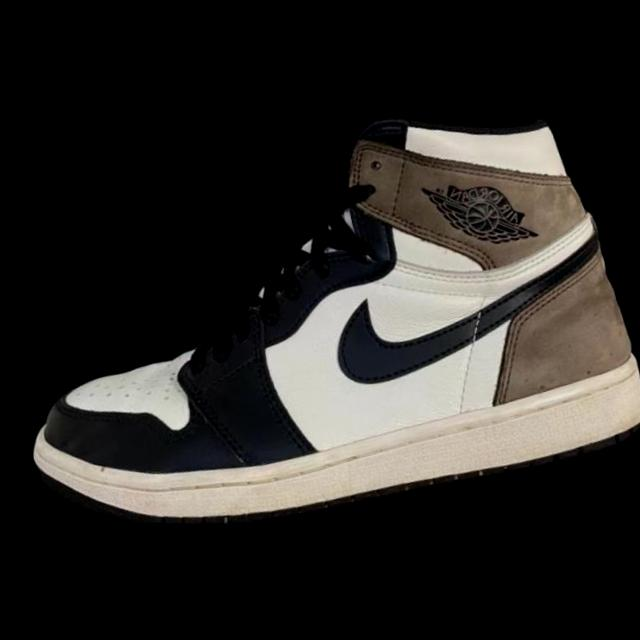nike_original_jordan: (0, 48, 640, 583)
